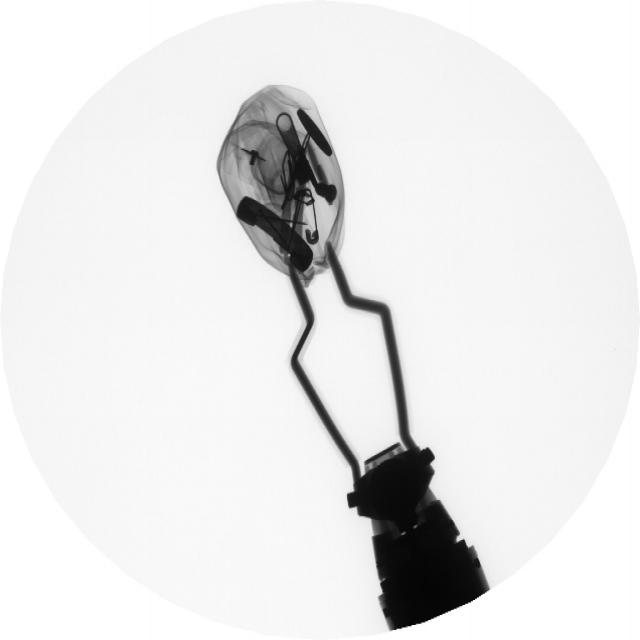SCREW: (317, 176, 334, 209)
